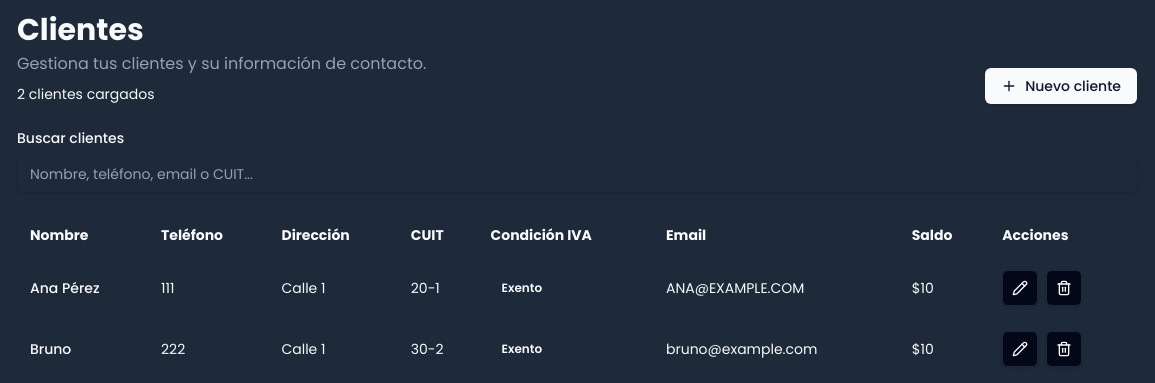
Test: clients page observable states and accessibility › searches by every supported contact field and distinguishes no-match from an empty collection
This screenshot has width=1155, height=383.
In the search field labelled "Buscar clientes": (577, 174) [17,156,1137,192], type "ana"
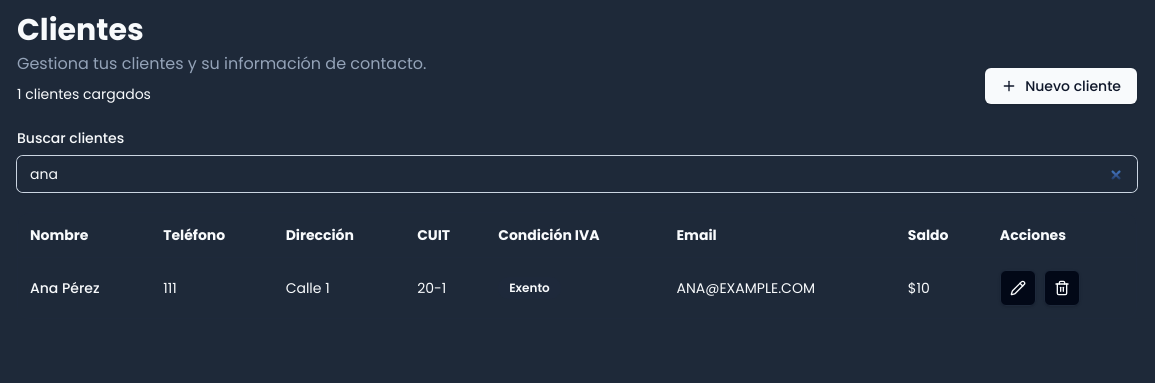
Replace the text in the search field labelled "Buscar clientes" with "111": (577, 174) [17,156,1137,192]
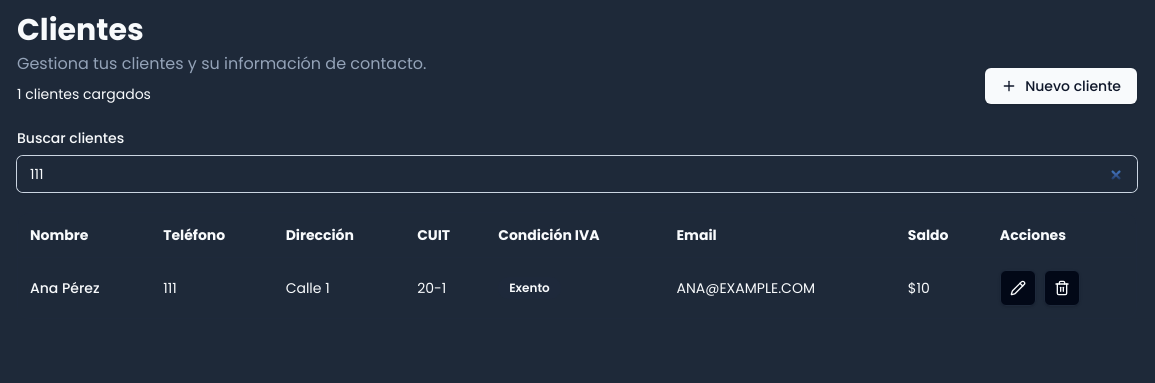
Replace the text in the search field labelled "Buscar clientes" with "ana@example.com": (577, 174) [17,156,1137,192]
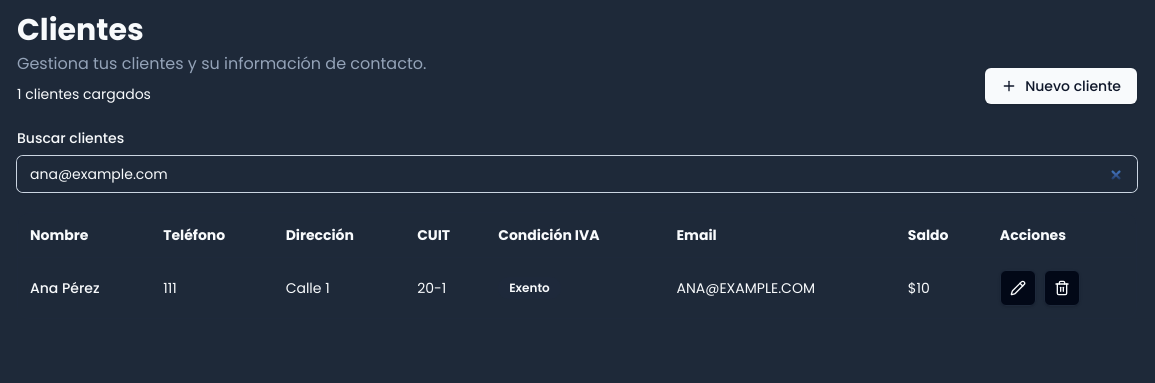
Replace the text in the search field labelled "Buscar clientes" with "20-1": (577, 174) [17,156,1137,192]
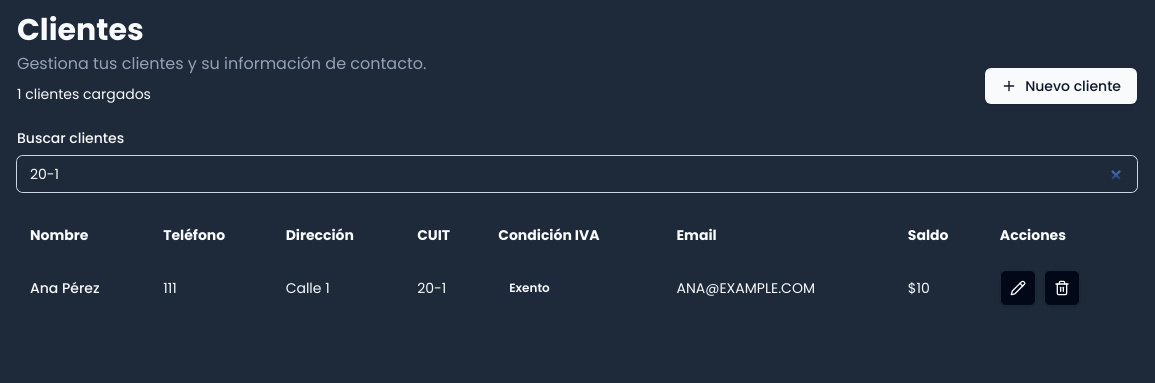
Replace the text in the search field labelled "Buscar clientes" with "does-not-exist": (577, 174) [17,156,1137,192]
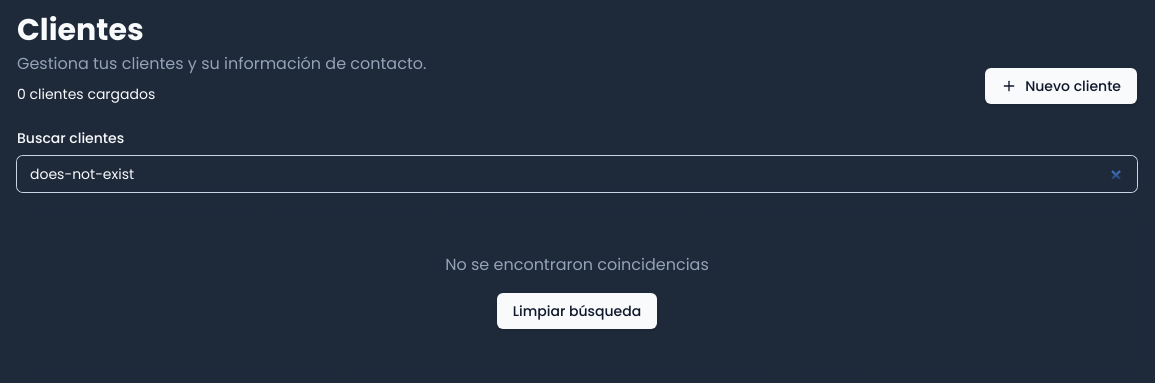
Check: the text "No se encontraron coincidencias" is shown, box [445,253,709,276]
Check: the button "Limpiar búsqueda" is shown, box [497,293,657,329]
